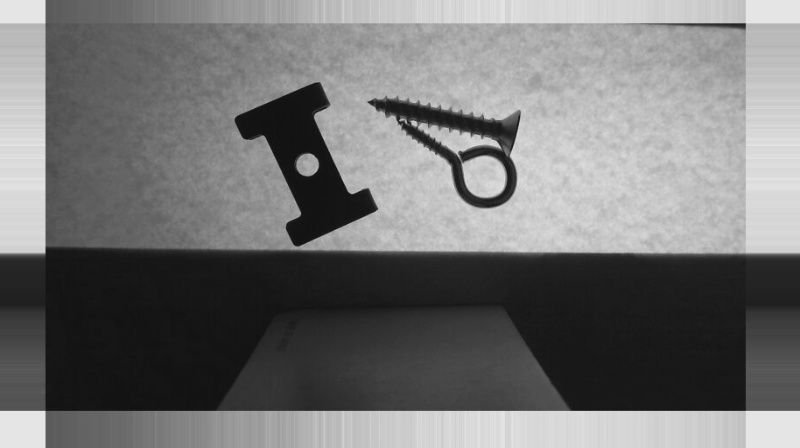O001: (396, 119, 517, 208)
O002: (232, 80, 379, 247)
S001: (366, 95, 521, 155)
